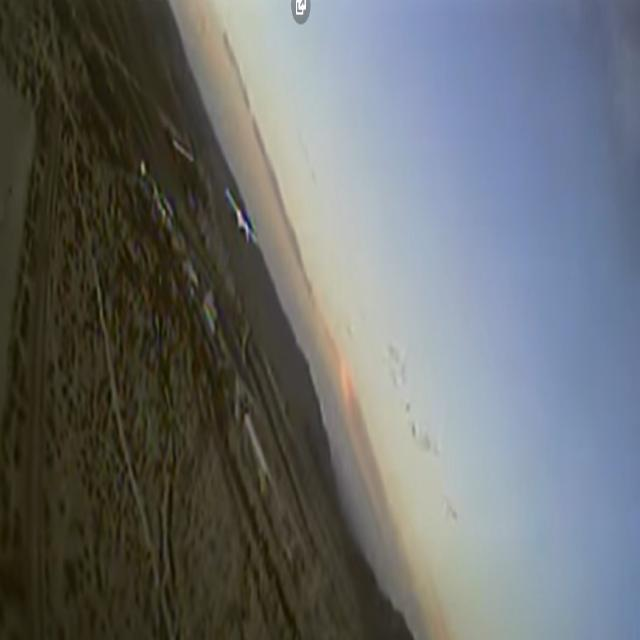iha: (223, 186, 264, 249)
